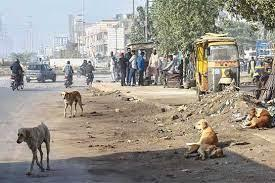normal_dogs: (8, 119, 56, 176), (186, 118, 227, 162), (242, 101, 274, 136), (188, 138, 226, 164), (58, 89, 87, 119)
